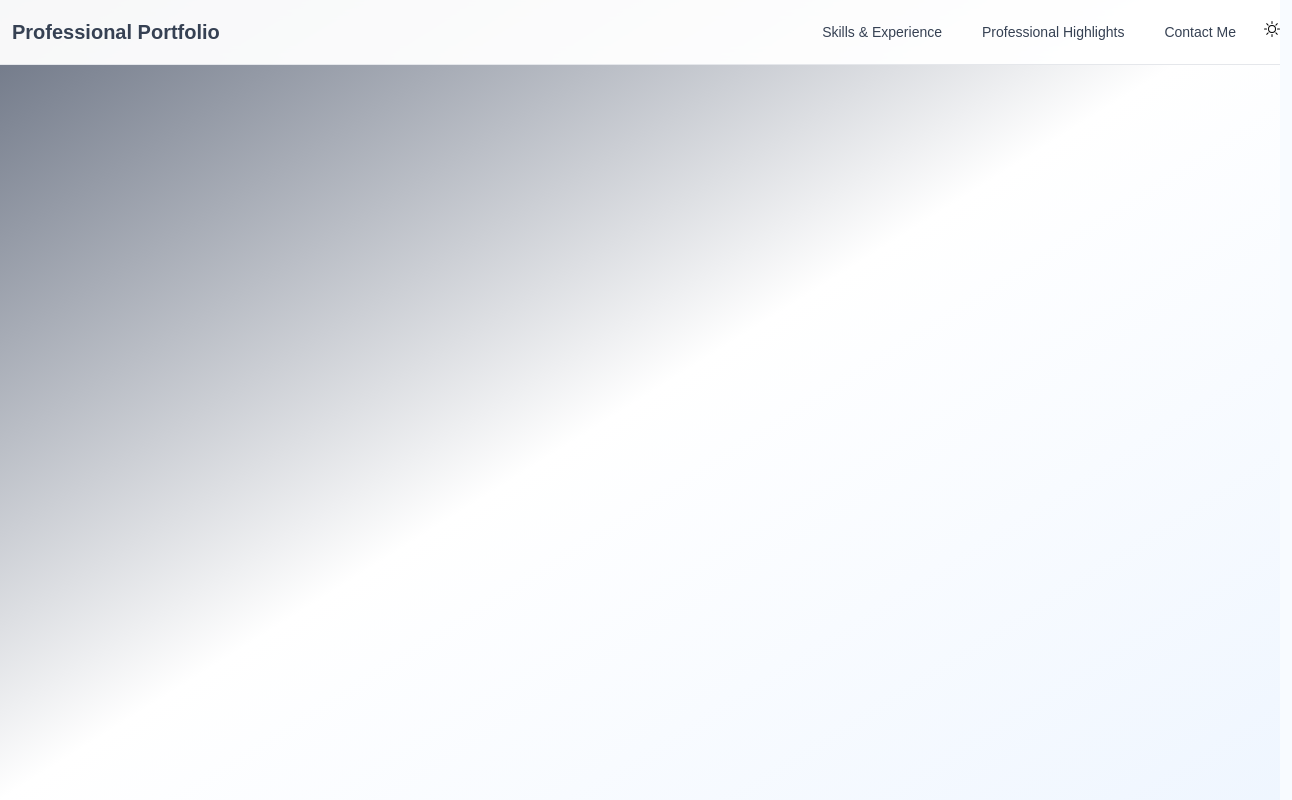
Scenario: Navigation › renders links and opens contact modal
The width and height of the screenshot is (1292, 800).
Expected: the link with aria-label "go to homepage" is shown, [12,21,220,43]
Click the link "Contact Me".
click(1200, 32)  # box [1164,24,1236,40]
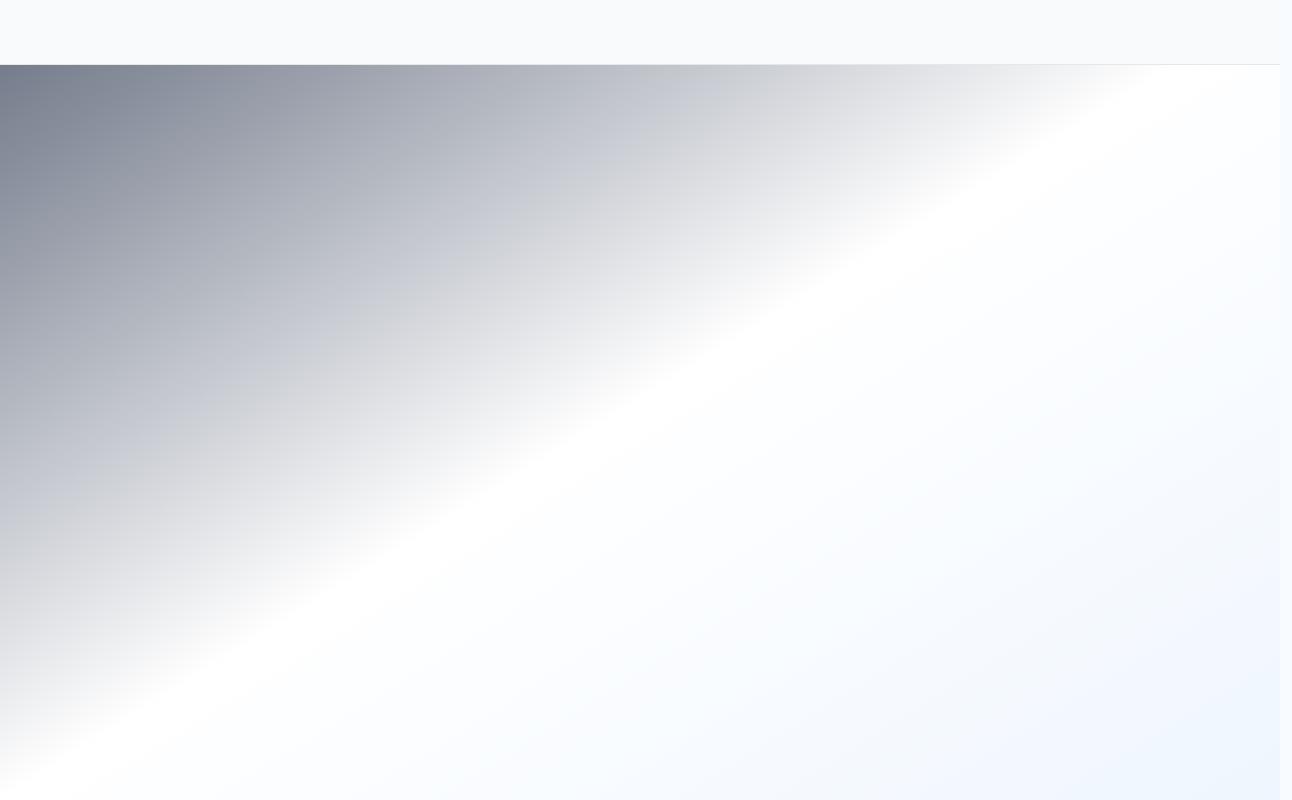
Now the element with id "contact-modal-container" is shown, box [0,0,1280,64]
